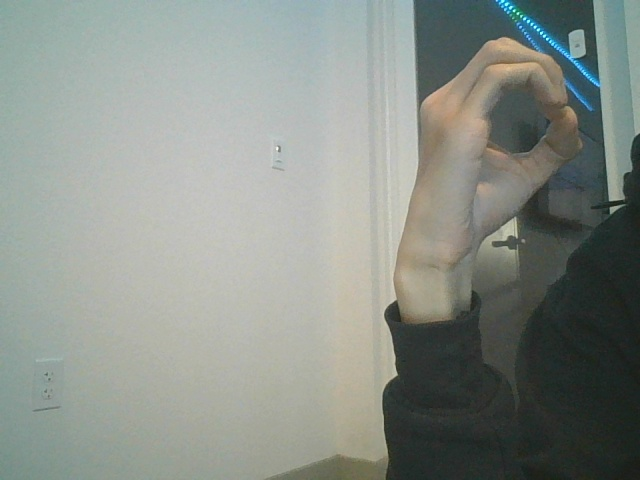o: (392, 32, 585, 303)
